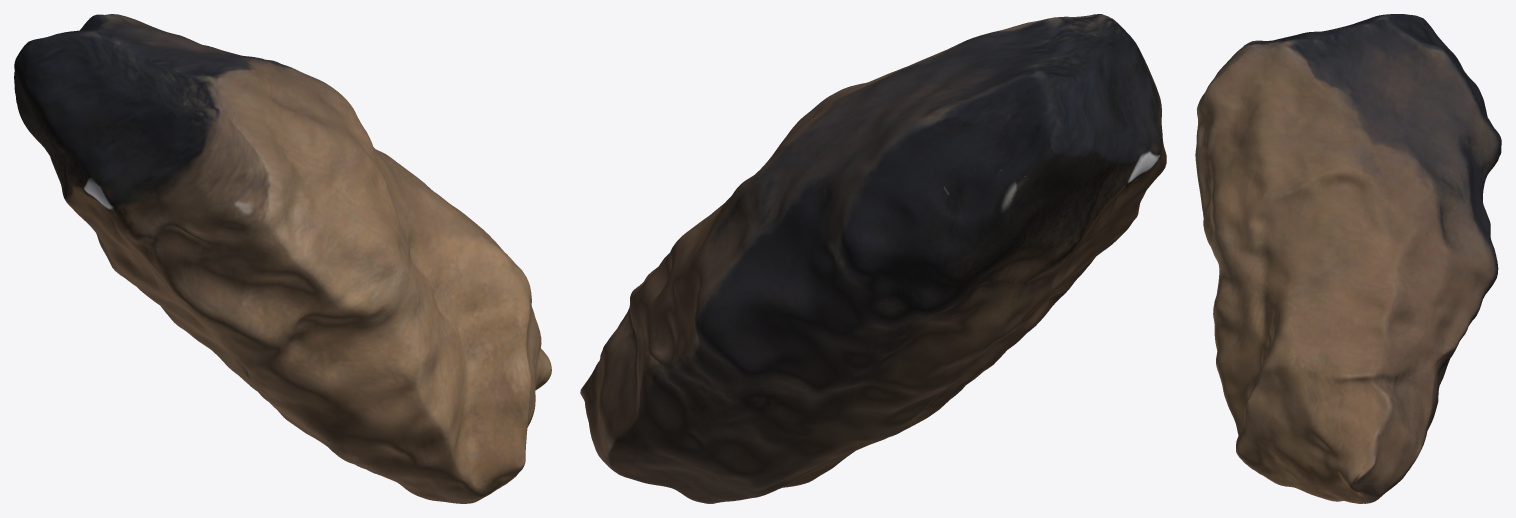
Rendered from roca_del_espacio__1006161259.glb.
The picture shows the model from 3 angles, left to right: view 1: azimuth 30°, elevation 25°; view 2: azimuth 150°, elevation 25°; view 3: azimuth 270°, elevation 25°; orthographic projection. The views are drawn at different scales.
Bounding box in the file's own units: 1.99 × 1.93 × 1.48.
Materials: 1 (1 with a texture image).
